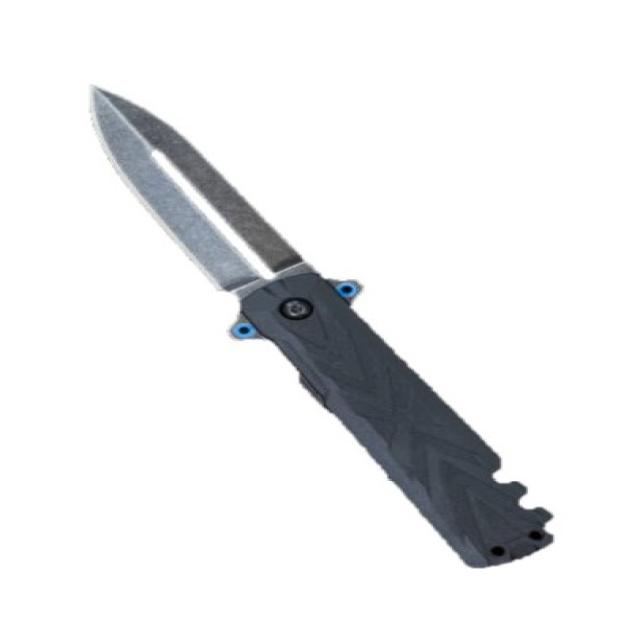knife: (74, 78, 576, 576)
